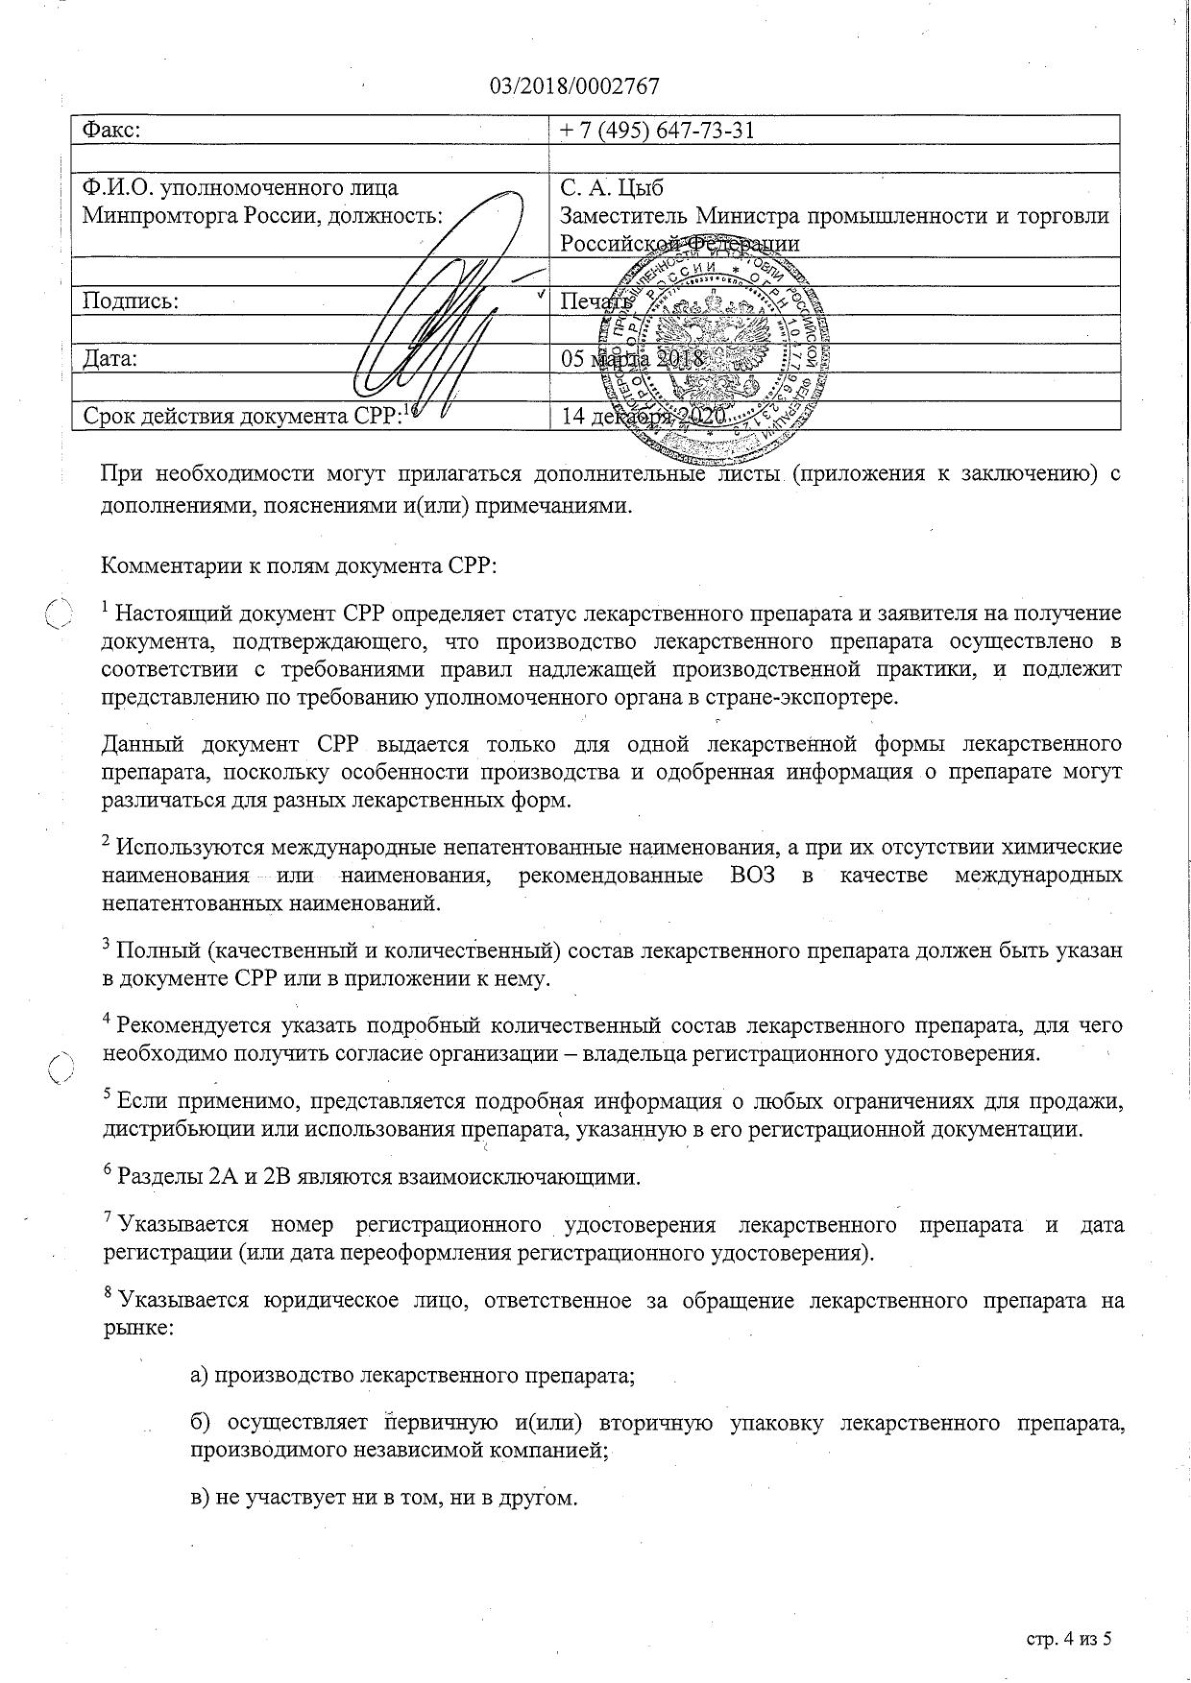full_lined: (70, 113, 1121, 430)
